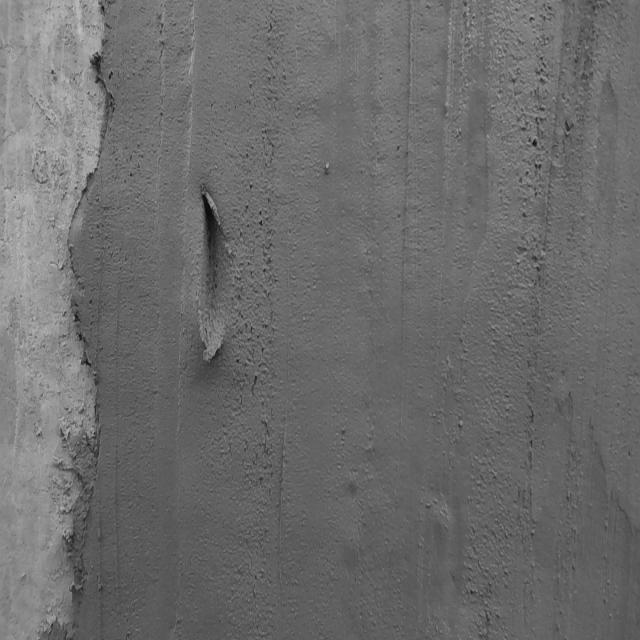trowels marks: (401, 0, 415, 337)
